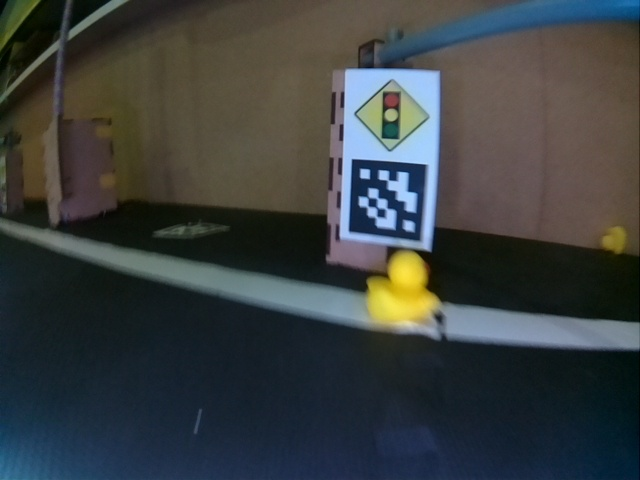Duckie: (365, 252, 441, 325), (600, 226, 627, 254)
QR code: (346, 161, 427, 246), (155, 221, 228, 238)
Signal sign: (345, 69, 439, 155)
